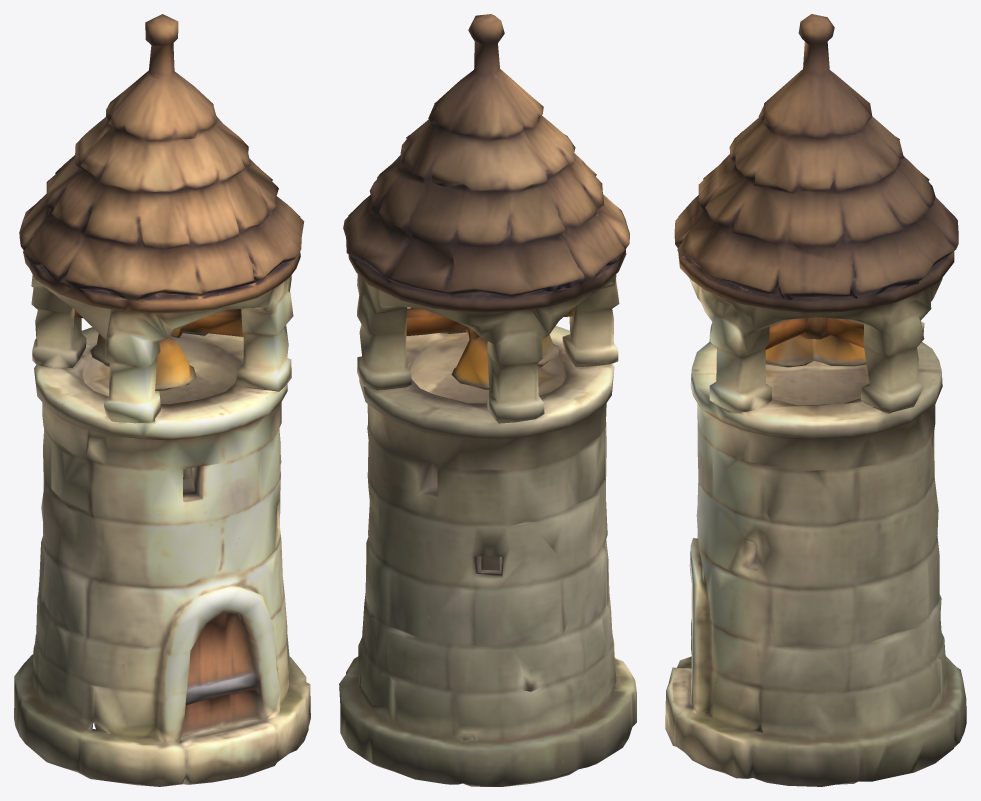
Rendered from bell_tower.glb.
The picture shows the model from 3 angles, left to right: view 1: azimuth 30°, elevation 25°; view 2: azimuth 150°, elevation 25°; view 3: azimuth 270°, elevation 25°; orthographic projection.
Visible parts, largest first — view 1: geometry_0.001; view 2: geometry_0.001; view 3: geometry_0.001.
Boxes of the visible parts, <box> form: geometry_0.001: <box>14,14,310,786</box>; geometry_0.001: <box>339,14,636,786</box>; geometry_0.001: <box>665,14,966,786</box>.
Size of the model in its own units: 0.7473 by 1.99 by 0.7656.
Materials: 1 (1 with a texture image).
